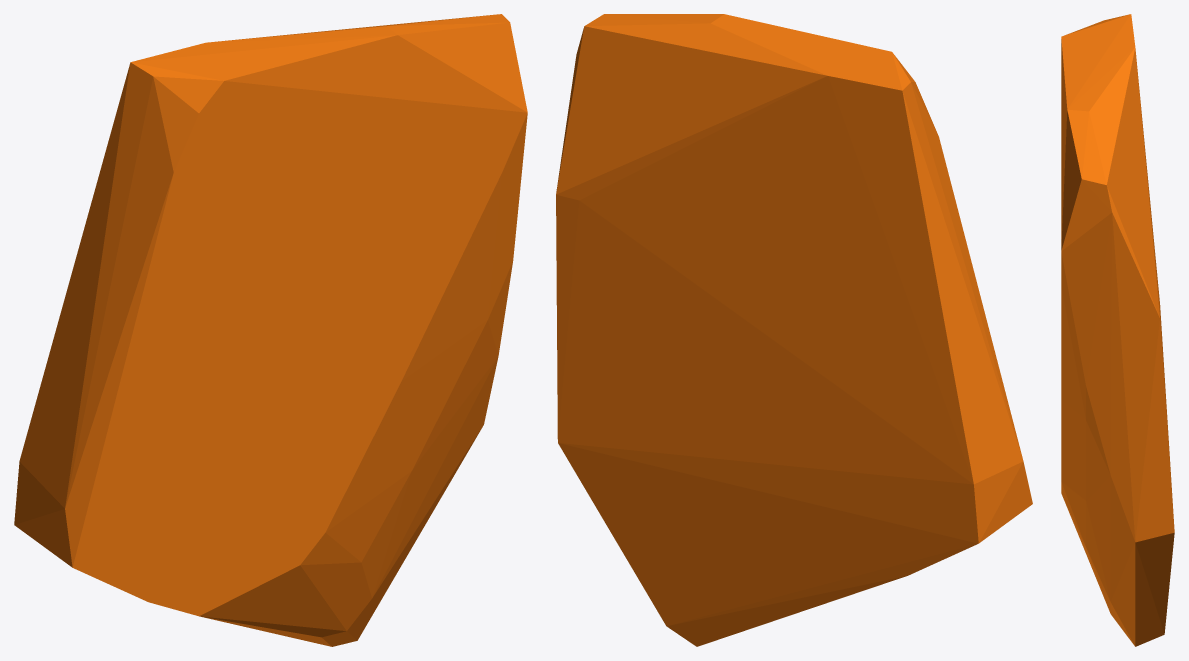
The model's file is mouth_cup011.obj.
The picture shows the model from 3 angles, left to right: view 1: azimuth 30°, elevation 25°; view 2: azimuth 150°, elevation 25°; view 3: azimuth 270°, elevation 25°; orthographic projection. The views are drawn at different scales.
Visible parts, largest first — view 1: mouth_cup011_mouth_cup011.001; view 2: mouth_cup011_mouth_cup011.001; view 3: mouth_cup011_mouth_cup011.001.
Part boxes in pixels (x1,y1,x2,y2): mouth_cup011_mouth_cup011.001: [14, 14, 527, 646]; mouth_cup011_mouth_cup011.001: [556, 14, 1032, 646]; mouth_cup011_mouth_cup011.001: [1061, 14, 1174, 646].
Size of the model in its own units: 0.1723 by 0.227 by 0.0433.
